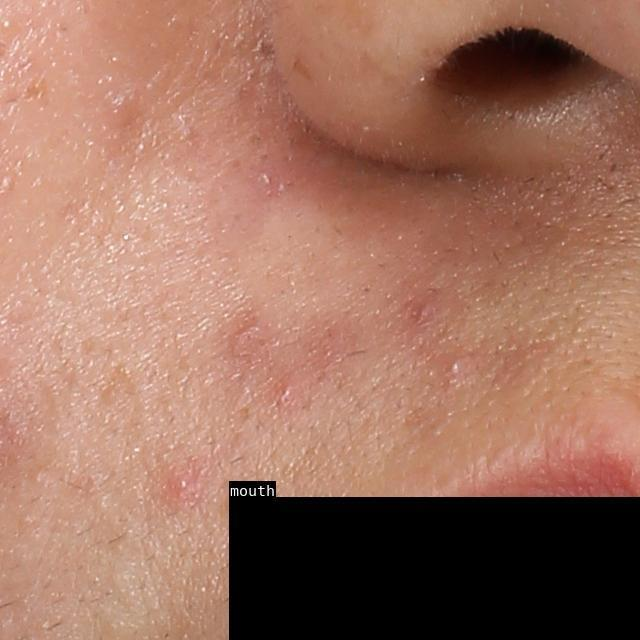comedo: (445, 352, 471, 377)
papule: (276, 381, 294, 404)
